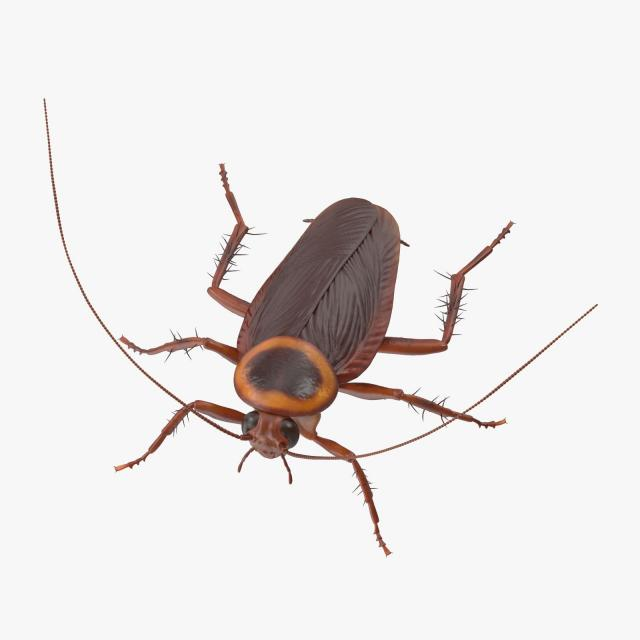Cockroach: (34, 88, 601, 560)
